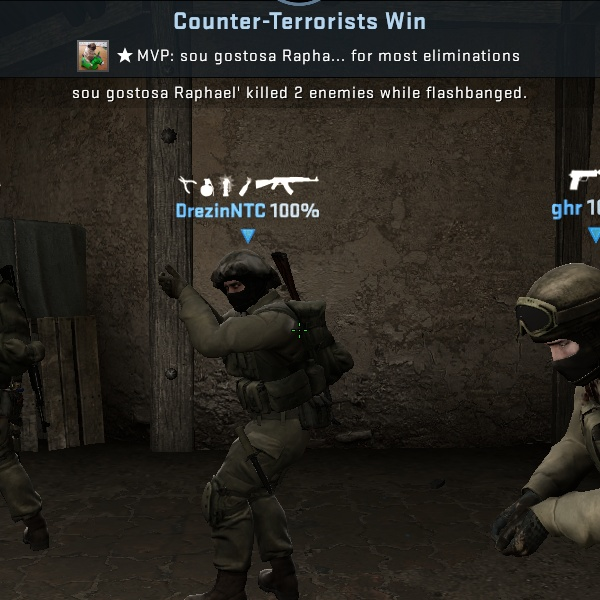ct_body: (150, 238, 336, 600)
ct_head: (209, 244, 281, 312)
